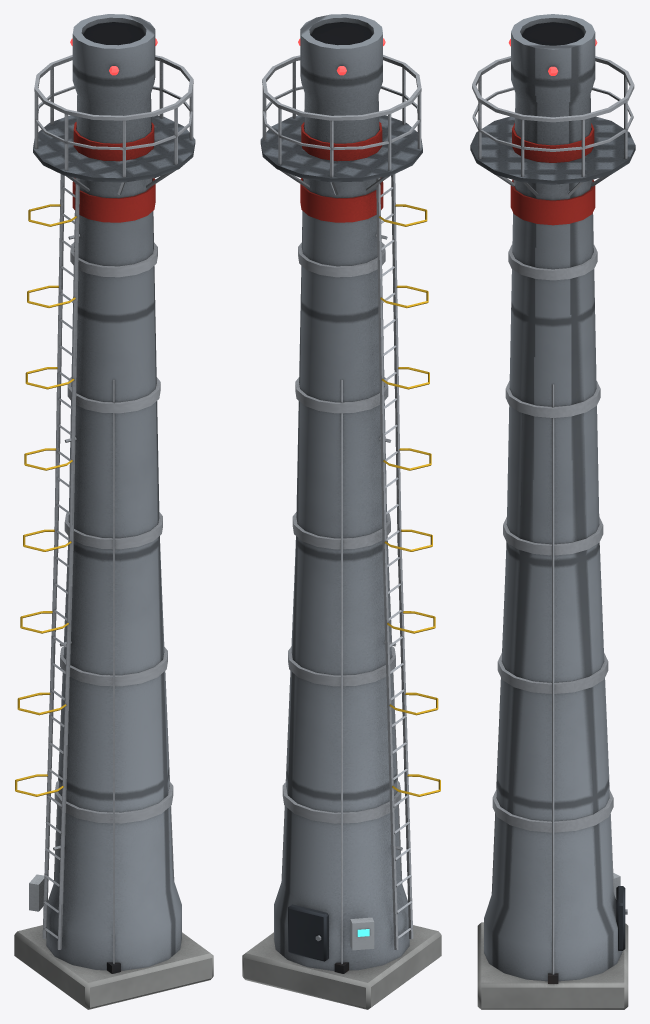
File: chimenea_industrial.fbx
3 renders of one model, left to right at view 1: azimuth 30°, elevation 25°; view 2: azimuth 150°, elevation 25°; view 3: azimuth 270°, elevation 25°, orthographic.
Parts seen in each view (by area): view 1: chimenea_industrial; view 2: chimenea_industrial; view 3: chimenea_industrial.
Boxes of the visible parts, x1=… form: chimenea_industrial: x1=14, y1=14, x2=213, y2=1009; chimenea_industrial: x1=242, y1=14, x2=441, y2=1009; chimenea_industrial: x1=470, y1=14, x2=635, y2=1009.
Size of the model in its own units: 2.64 by 13.9 by 2.2.
Materials: 2 (2 with a texture image).
